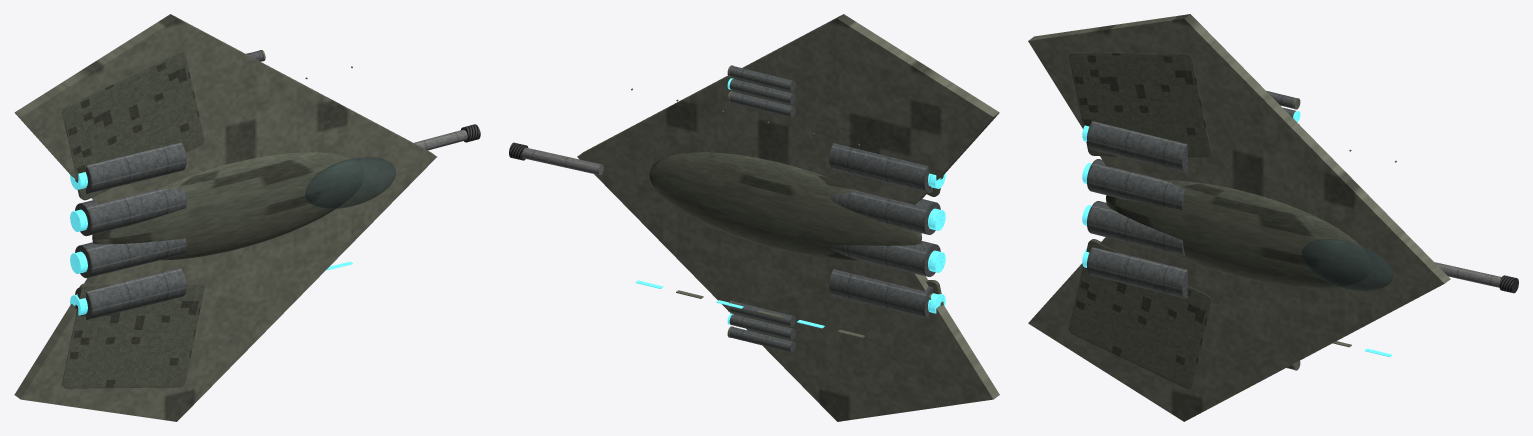
Rendered from v-u27-vanguard-heavy-bomber-lod0.glb.
The picture shows the model from 3 angles, left to right: view 1: azimuth 30°, elevation 25°; view 2: azimuth 150°, elevation 25°; view 3: azimuth 330°, elevation 25°; orthographic projection.
Visible parts, largest first — view 1: flying_wing_planform, flying_wing_core, flying_wing_elevon_1, flying_wing_elevon_-1, flying_wing_canopy, flying_wing_engine_2, flying_wing_engine_0, flying_wing_engine_3, flying_wing_engine_1, flying_wing_gun_barrel_0; view 2: flying_wing_planform, flying_wing_core, flying_wing_engine_0, flying_wing_engine_3, flying_wing_engine_2, flying_wing_engine_1, flying_wing_gun_barrel_0, flying_wing_1_tube_2, flying_wing_1_tube_1, flying_wing_-1_tube_2, flying_wing_1_tube_3, flying_wing_-1_tube_1 (+1 smaller); view 3: flying_wing_planform, flying_wing_core, flying_wing_elevon_1, flying_wing_elevon_-1, flying_wing_canopy, flying_wing_engine_0, flying_wing_engine_3, flying_wing_engine_2, flying_wing_engine_1, flying_wing_gun_barrel_0.
Boxes of the visible parts, x1,y1,x2,y2 form: flying_wing_planform: [14, 14, 436, 421]; flying_wing_core: [92, 152, 364, 260]; flying_wing_elevon_1: [62, 52, 204, 200]; flying_wing_elevon_-1: [62, 283, 204, 388]; flying_wing_canopy: [305, 157, 395, 208]; flying_wing_engine_2: [75, 188, 186, 236]; flying_wing_engine_0: [75, 268, 186, 320]; flying_wing_engine_3: [86, 142, 186, 194]; flying_wing_engine_1: [75, 238, 186, 278]; flying_wing_gun_barrel_0: [414, 129, 467, 150]; flying_wing_planform: [577, 14, 999, 421]; flying_wing_core: [649, 152, 921, 260]; flying_wing_engine_0: [829, 269, 932, 318]; flying_wing_engine_3: [829, 143, 932, 192]; flying_wing_engine_2: [830, 191, 940, 234]; flying_wing_engine_1: [830, 241, 940, 276]; flying_wing_gun_barrel_0: [522, 147, 603, 175]; flying_wing_1_tube_2: [729, 79, 795, 104]; flying_wing_1_tube_1: [729, 91, 795, 117]; flying_wing_-1_tube_2: [729, 314, 795, 339]; flying_wing_1_tube_3: [729, 66, 795, 91]; flying_wing_-1_tube_1: [729, 327, 795, 352]; flying_wing_planform: [1028, 14, 1450, 421]; flying_wing_core: [1106, 180, 1371, 288]; flying_wing_elevon_1: [1069, 52, 1211, 156]; flying_wing_elevon_-1: [1069, 239, 1211, 388]; flying_wing_canopy: [1301, 239, 1392, 290]; flying_wing_engine_0: [1087, 247, 1187, 298]; flying_wing_engine_3: [1087, 121, 1187, 172]; flying_wing_engine_2: [1087, 159, 1185, 209]; flying_wing_engine_1: [1087, 201, 1185, 256]; flying_wing_gun_barrel_0: [1434, 262, 1501, 287].
Size of what is drawn, in the model's own units: 18.89 by 15.43 by 2.14.
7 materials, 7 textured.
